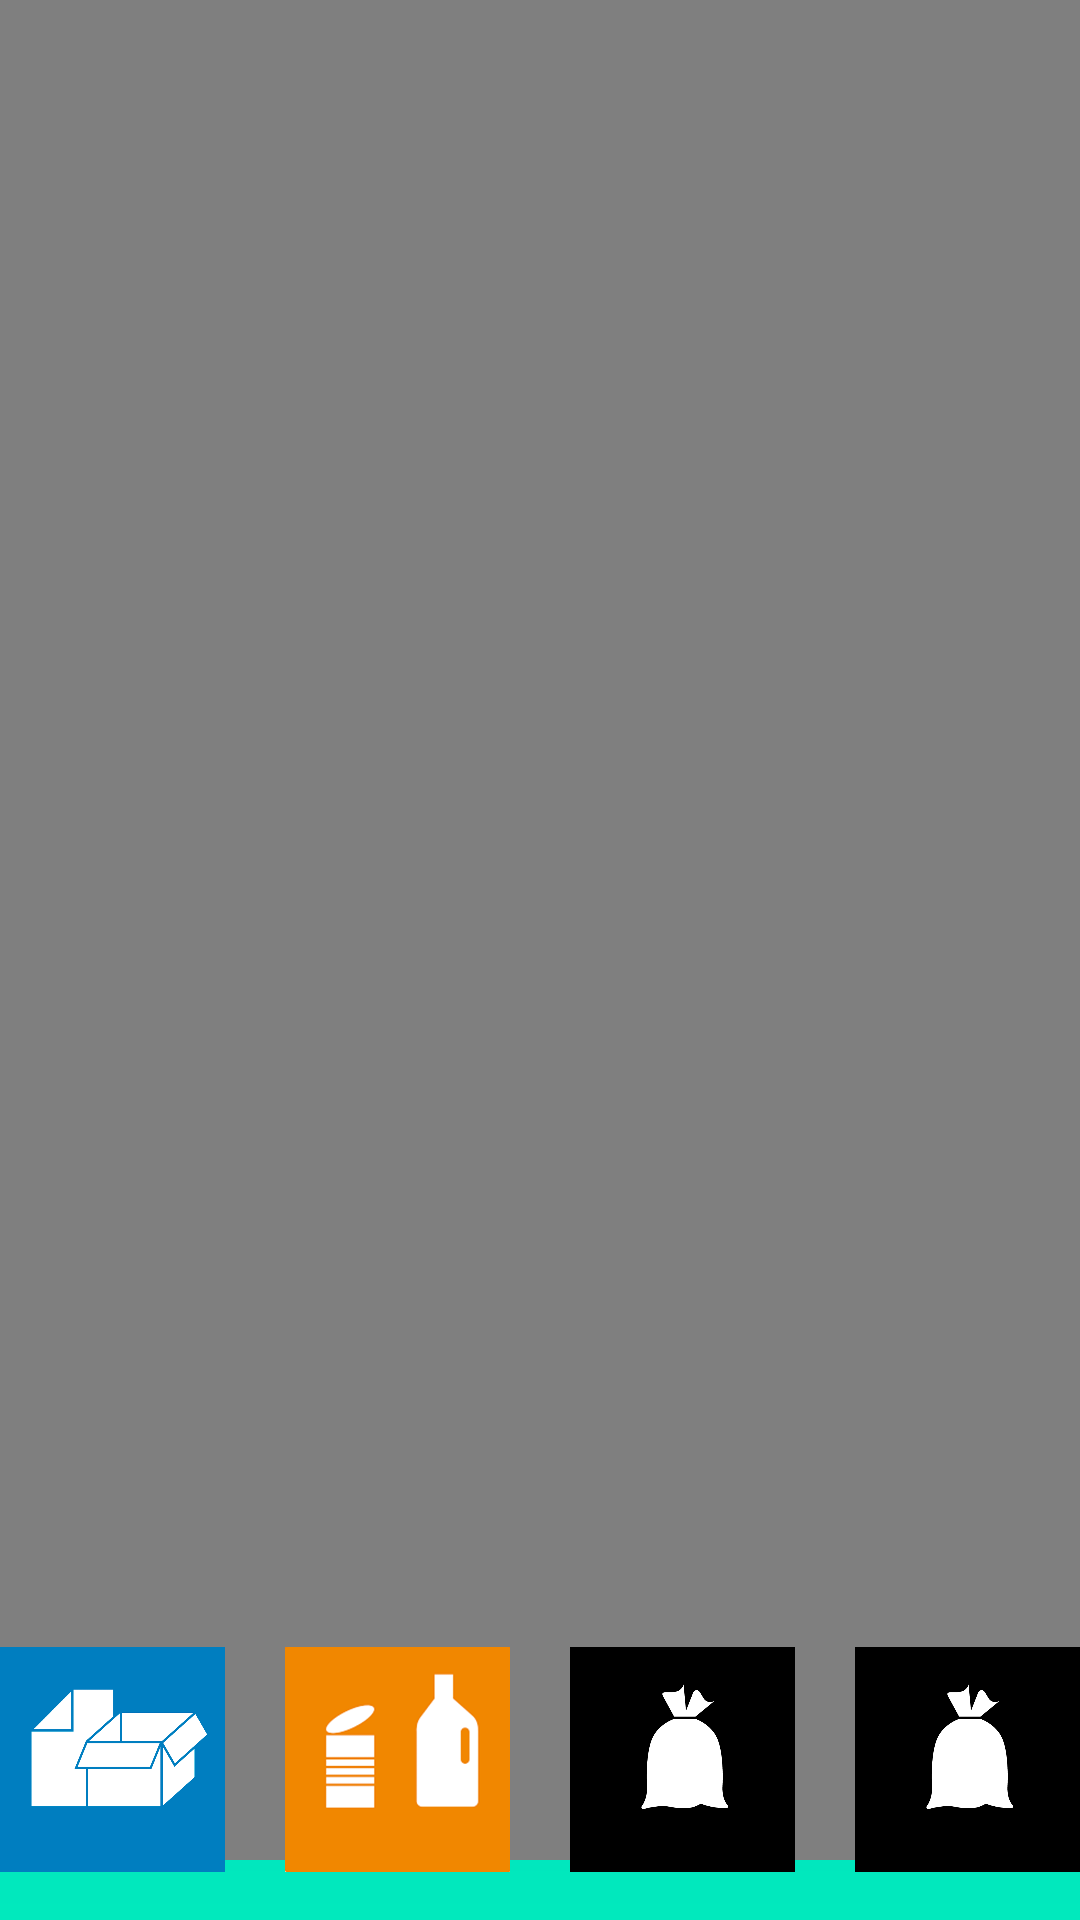

Named icons in this screenshot (1080 x 1920) and their centers, (x=x, y=y):
metal og plast: (x=397, y=1759)
papir og pap: (x=112, y=1759)
restaffald: (x=682, y=1759), (x=967, y=1759)
